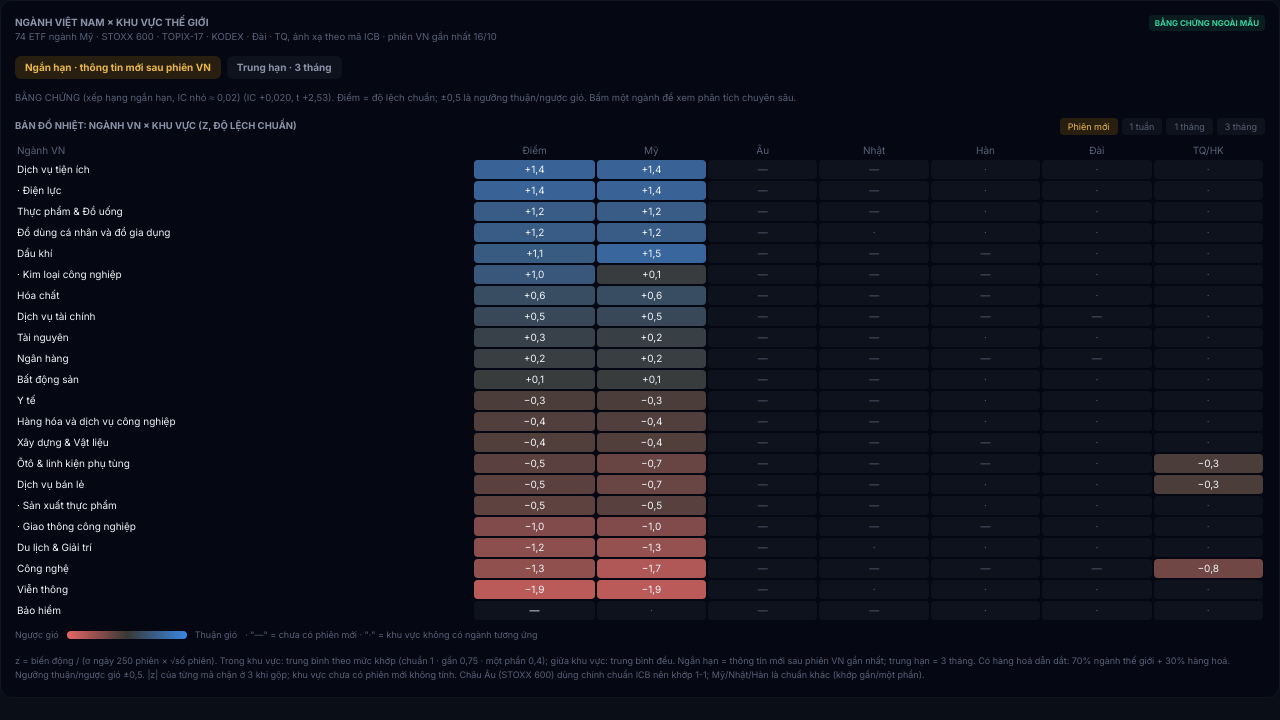
Scenario: WorldSectorPanel › nhãn bằng chứng, bản đồ nhiệt 22 ngành, đổi sang trung hạn = thăm dò
Click the button "Trung hạn · 3 tháng" at (284, 68), box 227,56 -> 342,79
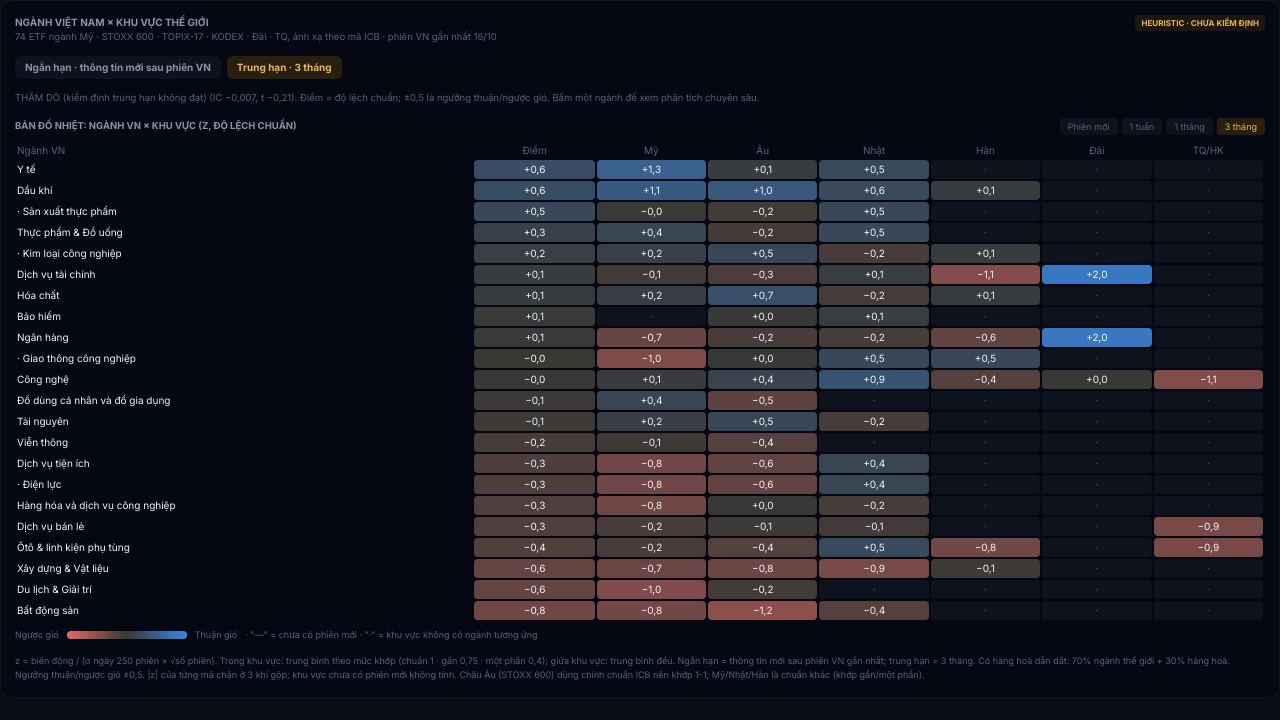
Check: the text "THĂM DÒ" is shown, box 15,92 -> 207,103
